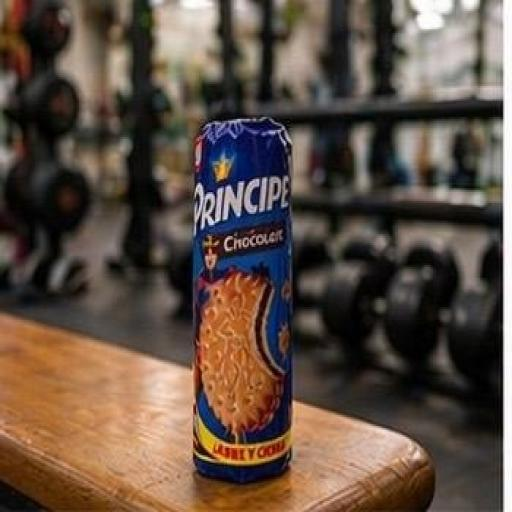prince: (154, 83, 369, 506)
